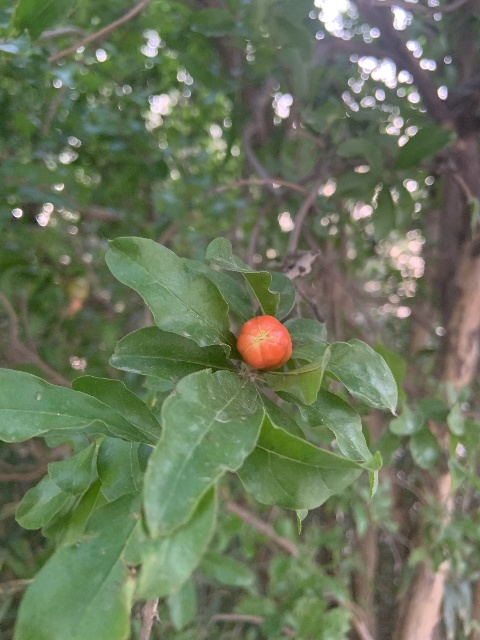bud: (236, 314, 292, 372)
